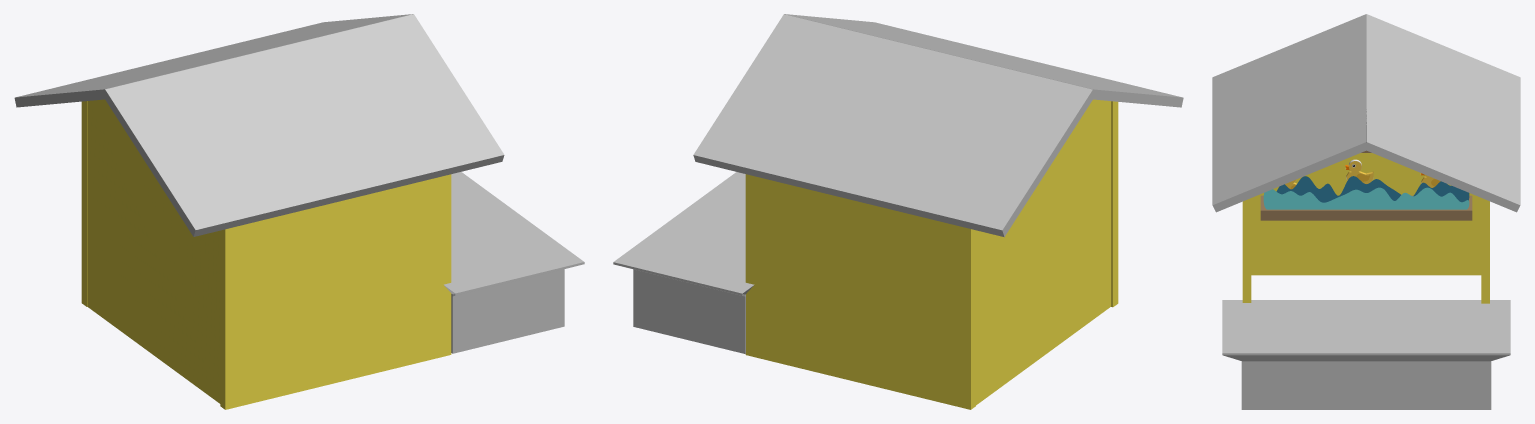
Rendered from booth doğrusu.fbx.
3 renders of one model, left to right at view 1: azimuth 30°, elevation 25°; view 2: azimuth 150°, elevation 25°; view 3: azimuth 270°, elevation 25°, orthographic. The views are drawn at different scales.
Parts seen in each view (by area): view 1: Cube.004, Cube.001, Cube.003, Cube, Cube.002; view 2: Cube.004, Cube.002, Cube.003, Cube, Cube.001; view 3: Cube.004, Cube, Cube.003, Plane, Cube.006, Plane.001, Cube.001, Cube.002, Plane.005.
Part boxes in pixels (x1=…): Cube.004: x1=14, y1=14, x2=504, y2=236; Cube.001: x1=220, y1=174, x2=451, y2=409; Cube.003: x1=87, y1=99, x2=220, y2=403; Cube: x1=444, y1=172, x2=584, y2=353; Cube.002: x1=81, y1=101, x2=87, y2=306; Cube.004: x1=693, y1=14, x2=1183, y2=237; Cube.002: x1=745, y1=174, x2=975, y2=409; Cube.003: x1=976, y1=99, x2=1110, y2=405; Cube: x1=613, y1=172, x2=754, y2=353; Cube.001: x1=1111, y1=101, x2=1118, y2=307; Cube.004: x1=1212, y1=14, x2=1520, y2=212; Cube: x1=1222, y1=300, x2=1510, y2=409; Cube.003: x1=1251, y1=153, x2=1481, y2=275; Plane: x1=1263, y1=187, x2=1469, y2=209; Cube.006: x1=1260, y1=195, x2=1472, y2=220; Plane.001: x1=1276, y1=176, x2=1469, y2=202; Cube.001: x1=1242, y1=198, x2=1251, y2=302; Cube.002: x1=1481, y1=198, x2=1489, y2=303; Plane.005: x1=1345, y1=159, x2=1373, y2=183.
Bounding box in the file's own units: 706 × 477 × 561.
